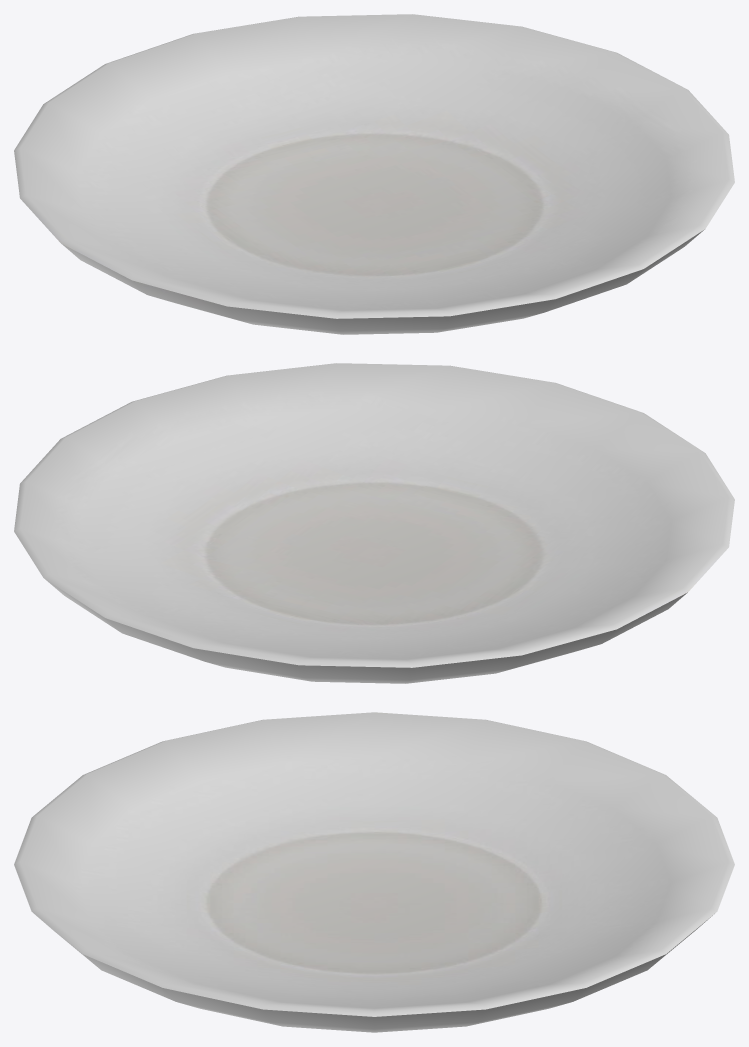
File: SM_Coffee_Saucer_01.glb
3 views of the same model, one above another, from view 1: azimuth 30°, elevation 25°; view 2: azimuth 150°, elevation 25°; view 3: azimuth 270°, elevation 25° (orthographic).
Parts seen in each view (by area): view 1: SM_Coffee_Saucer_01; view 2: SM_Coffee_Saucer_01; view 3: SM_Coffee_Saucer_01.
Part boxes in pixels (x1,y1,x2,y2): SM_Coffee_Saucer_01: (14,14,734,334); SM_Coffee_Saucer_01: (14,363,734,683); SM_Coffee_Saucer_01: (14,712,734,1032).
Bounding box in the file's own units: 0.1384 × 0.0176 × 0.1384.
1 material, 1 textured.
